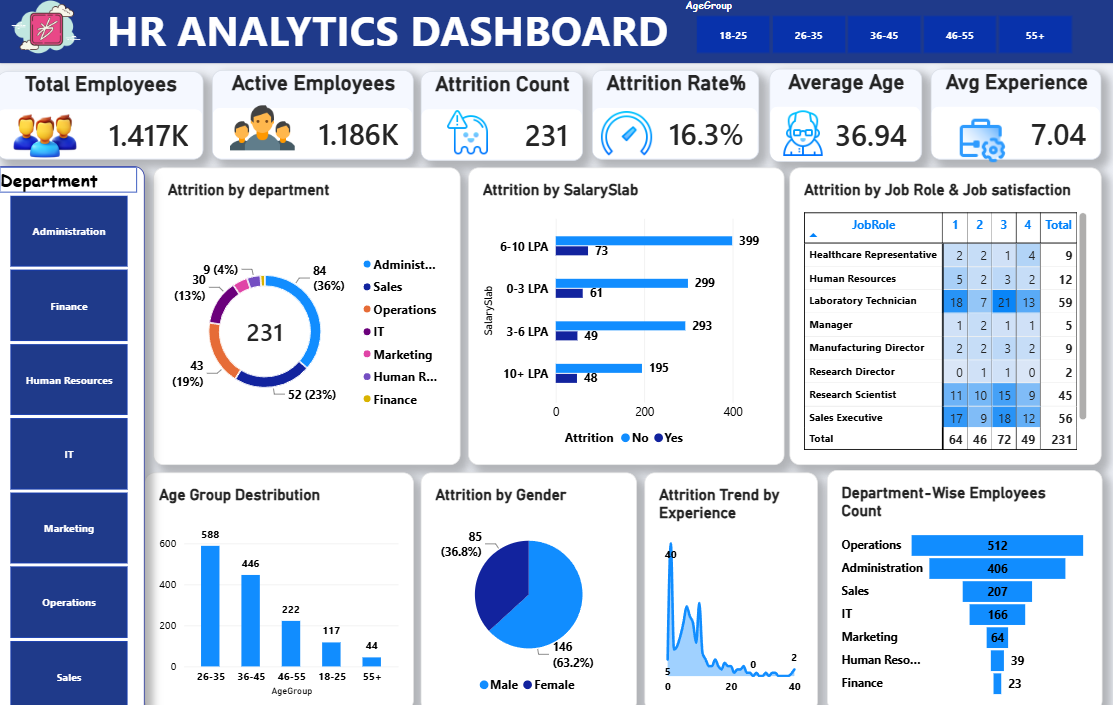

The dashboard page shown, as its layout file describes it:
{"tool":"powerbi","page":{"name":"Page 1","canvas":[1300,850],"ordinal":0},"visuals":[{"type":"textbox","box":[0,0,1400.3,85.7],"z":0},{"type":"image","box":[0,0,123.5,85.1],"z":1000},{"type":"cardVisual","title":"Total Employees","fields":{"Data":["CountNonNull(HR_Analytics-4.EmpID)"]},"box":[5.7,94,239.3,102.5],"z":2000},{"type":"cardVisual","title":"Active Employees","fields":{"Data":["CountNonNull(HR_Analytics-4.EmployeeCount)"]},"box":[254.9,92.6,233.6,104],"z":3000},{"type":"cardVisual","title":"Attrition Count","fields":{"Data":["Sum(HR_Analytics-4.Attrition Count)"]},"box":[497.1,94,188,104],"z":4000},{"type":"cardVisual","title":"Attrition Rate%","fields":{"Data":["HR_Analytics-4.Attrition Rate %"]},"box":[695,92.6,193.7,104],"z":5000},{"type":"cardVisual","title":"Average Age","fields":{"Data":["Avg(HR_Analytics-4.Age)"]},"box":[901.6,91.2,176.6,108.2],"z":6000},{"type":"cardVisual","title":"Avg Experience","fields":{"Data":["Avg(HR_Analytics-4.YearsatCompany)"]},"box":[1088.1,91.2,198,105.4],"z":7000},{"type":"image","box":[254.9,119.6,116.8,81.2],"z":8000},{"type":"image","box":[1120.9,131,66.9,62.7],"z":9000},{"type":"image","box":[901.6,133.9,78.3,66.5],"z":10000},{"type":"image","box":[12.8,131,96.9,74.1],"z":11000},{"type":"image","box":[480,133.9,142.7,63.1],"z":12000},{"type":"image","box":[702.2,126.8,65.9,76.8],"z":13000},{"type":"donutChart","title":"Attrition by department","fields":{"Category":["HR_Analytics-4.Department"],"Y":["Sum(HR_Analytics-4.Attrition Count)"]},"box":[186.6,205.1,356.1,344.7],"z":14000},{"type":"clusteredBarChart","title":"Attrition by SalarySlab","fields":{"Category":["HR_Analytics-4.SalarySlab"],"Series":["HR_Analytics-4.Attrition"],"Y":["CountNonNull(HR_Analytics-4.EmpID)"]},"box":[551.2,205.1,366,344.7],"z":15000},{"type":"pivotTable","title":"Attrition by Job Role & Job satisfaction","fields":{"Columns":["HR_Analytics-4.JobSatisfaction"],"Rows":["HR_Analytics-4.JobRole"],"Values":["Sum(HR_Analytics-4.Attrition Count)"]},"box":[924.4,205.1,361.8,344.7],"z":16000},{"type":"columnChart","title":"Age Group Destribution","fields":{"Category":["HR_Analytics-4.AgeGroup"],"Y":["Sum(HR_Analytics-4.EmployeeCount)"]},"box":[176.6,559.7,311.9,276.3],"z":17000},{"type":"pieChart","title":"Attrition by Gender","fields":{"Category":["HR_Analytics-4.Gender"],"Y":["Sum(HR_Analytics-4.Attrition Count)"]},"box":[497.1,559.7,250.7,277.7],"z":18000},{"type":"areaChart","title":"Attrition Trend by Experience","fields":{"Category":["HR_Analytics-4.TotalExperience(Years)"],"Y2":["Sum(HR_Analytics-4.Attrition Count)"]},"box":[756.3,559.7,200.8,277.7],"z":19000},{"type":"funnel","title":"Department-Wise Employees Count","fields":{"Category":["HR_Analytics-4.Department"],"Y":["Sum(HR_Analytics-4.EmployeeCount)"]},"box":[967.1,556.9,319,279.2],"z":20000},{"type":"slicer","fields":{"Values":["HR_Analytics-4.Department"]},"box":[0,203.7,176.6,635.2],"z":21000},{"type":"slicer","fields":{"Values":["HR_Analytics-4.AgeGroup"]},"box":[794.7,8.5,475.7,66.9],"z":22000}]}

Visuals, with their boxes on the page's 1300x850 design canvas (x1, y1, x2, y2). These are canvas units, not pixel positions in the 1113x705 screenshot, which may show the page scaled, cropped or inside an application window:
textbox: x1=0, y1=0, x2=1400, y2=86
image: x1=0, y1=0, x2=124, y2=85
"Total Employees" cardVisual: x1=6, y1=94, x2=245, y2=196
"Active Employees" cardVisual: x1=255, y1=93, x2=488, y2=197
"Attrition Count" cardVisual: x1=497, y1=94, x2=685, y2=198
"Attrition Rate%" cardVisual: x1=695, y1=93, x2=889, y2=197
"Average Age" cardVisual: x1=902, y1=91, x2=1078, y2=199
"Avg Experience" cardVisual: x1=1088, y1=91, x2=1286, y2=197
image: x1=255, y1=120, x2=372, y2=201
image: x1=1121, y1=131, x2=1188, y2=194
image: x1=902, y1=134, x2=980, y2=200
image: x1=13, y1=131, x2=110, y2=205
image: x1=480, y1=134, x2=623, y2=197
image: x1=702, y1=127, x2=768, y2=204
"Attrition by department" donutChart: x1=187, y1=205, x2=543, y2=550
"Attrition by SalarySlab" clusteredBarChart: x1=551, y1=205, x2=917, y2=550
"Attrition by Job Role & Job satisfaction" pivotTable: x1=924, y1=205, x2=1286, y2=550
"Age Group Destribution" columnChart: x1=177, y1=560, x2=488, y2=836
"Attrition by Gender" pieChart: x1=497, y1=560, x2=748, y2=837
"Attrition Trend by Experience" areaChart: x1=756, y1=560, x2=957, y2=837
"Department-Wise Employees Count" funnel: x1=967, y1=557, x2=1286, y2=836
slicer - HR_Analytics-4.Department: x1=0, y1=204, x2=177, y2=839
slicer - HR_Analytics-4.AgeGroup: x1=795, y1=8, x2=1270, y2=75
